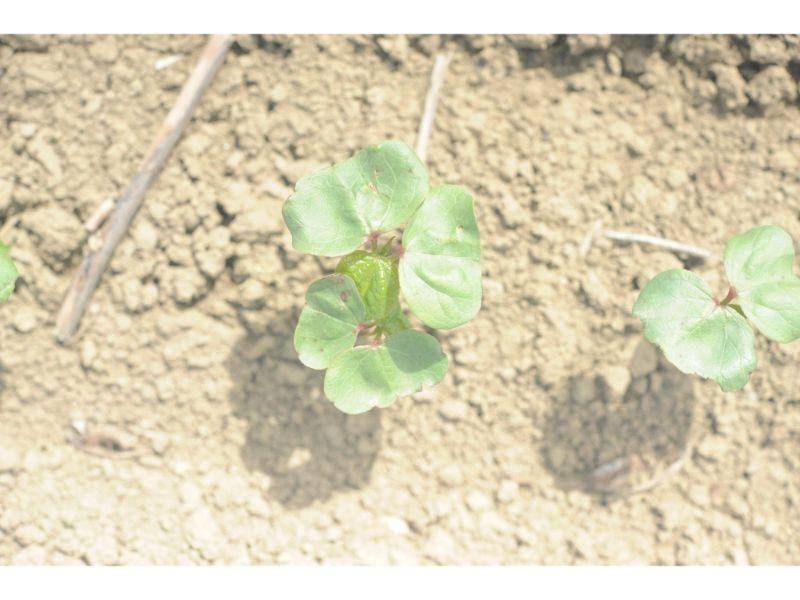cotton: (280, 141, 484, 417), (635, 220, 800, 391)
